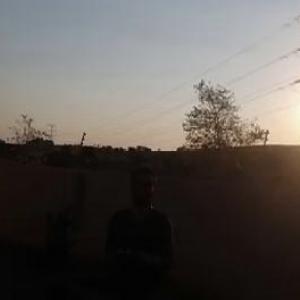follow: (97, 159, 177, 299)
